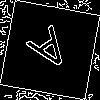A: (25, 25, 79, 82)
